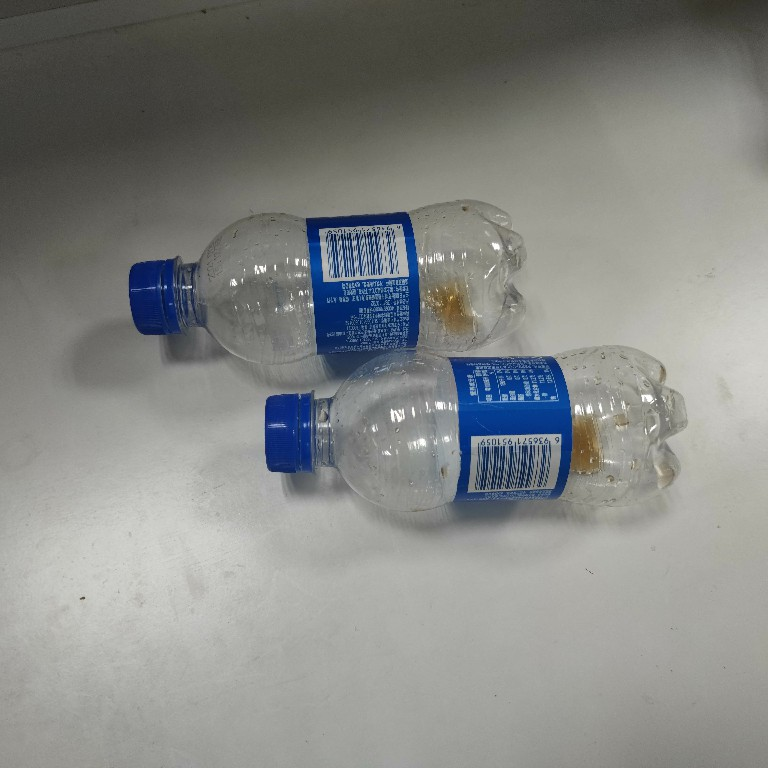bottle: (263, 342, 694, 518), (125, 196, 533, 371)
